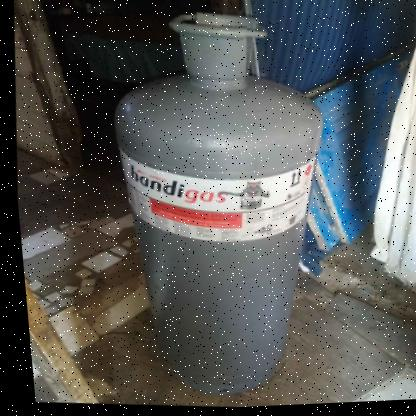gas-tank: (77, 0, 361, 412)
